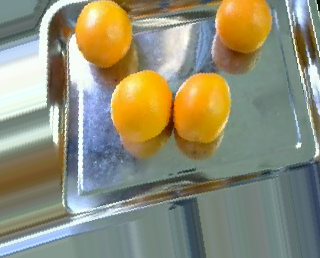Orange: (110, 69, 172, 142), (172, 72, 231, 143), (73, 1, 132, 67), (214, 1, 273, 52)
